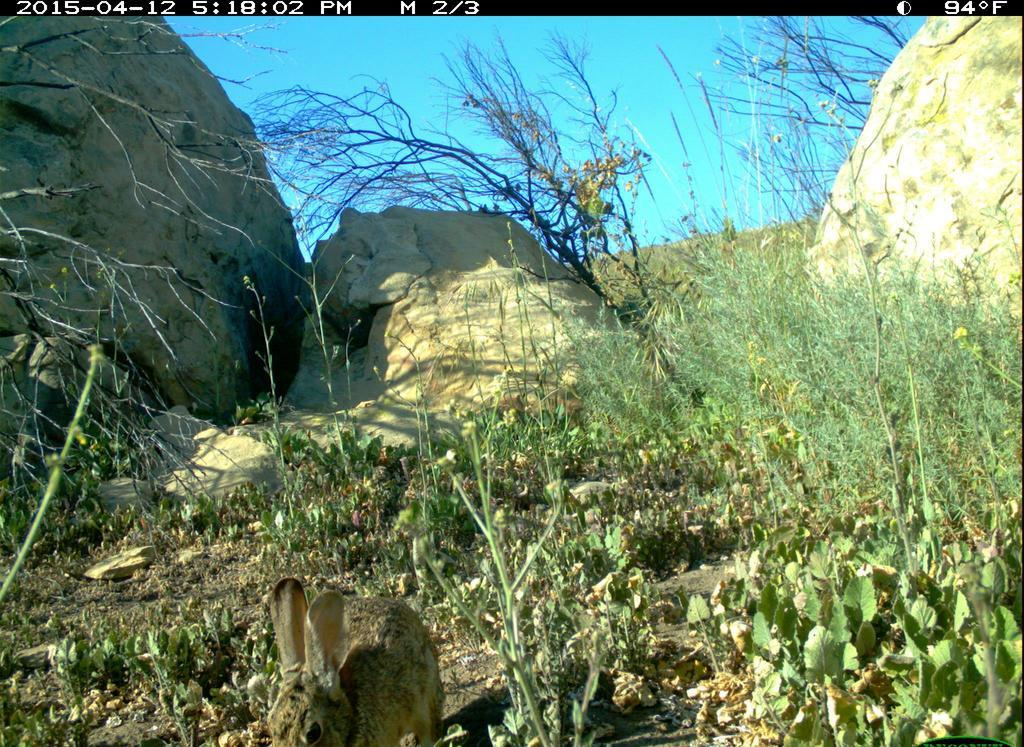rabbit: (249, 559, 451, 747)
